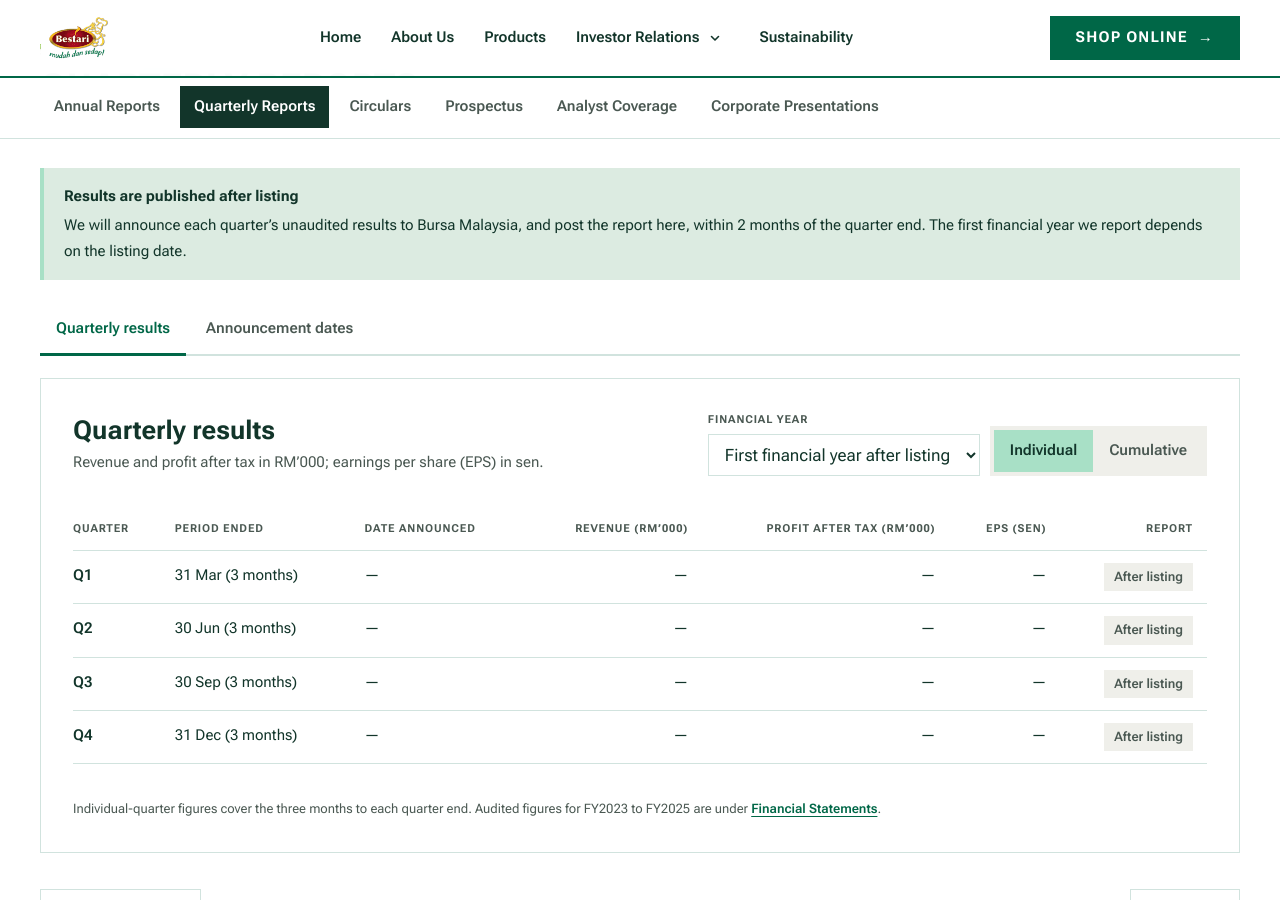
Test case: Quarterly Reports › switches to cumulative year-to-date periods
The image size is (1280, 900).
(page scrolled)
Check: the heading "Quarterly Reports" is shown, box left=40, top=66, right=418, bottom=108
Click the button "Cumulative": (1148, 451) left=1093, top=430, right=1203, bottom=472
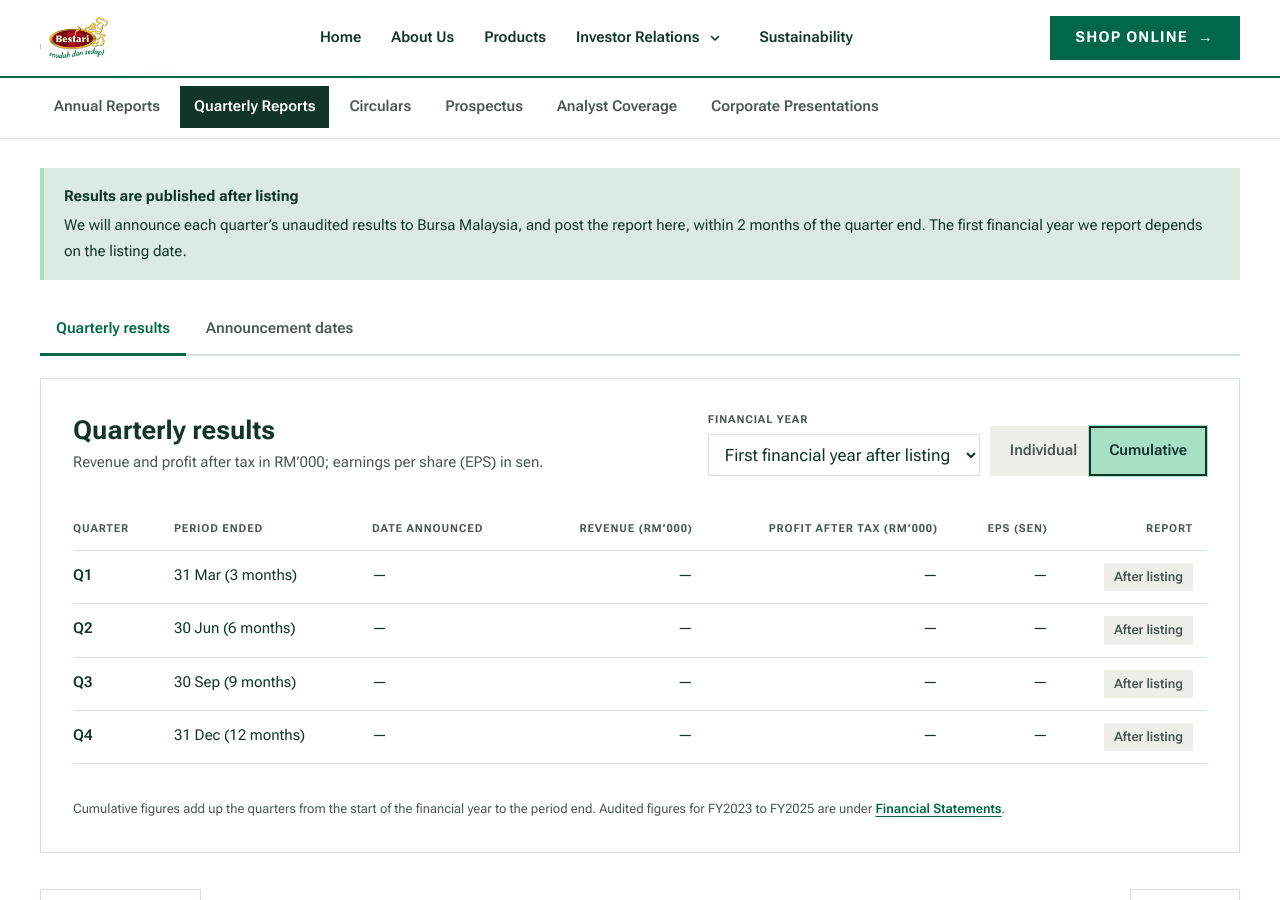
Check: the table named "cumulative, year to date" shows "30 Jun (6 months)", box left=174, top=619, right=296, bottom=637
Check: the table named "cumulative, year to date" shows "31 Dec (12 months)", box left=174, top=726, right=305, bottom=744
Check: the text "Cumulative figures add up the quarters" is shown, box left=73, top=801, right=596, bottom=816
Click the button "Individual": (1043, 451) left=994, top=430, right=1093, bottom=472
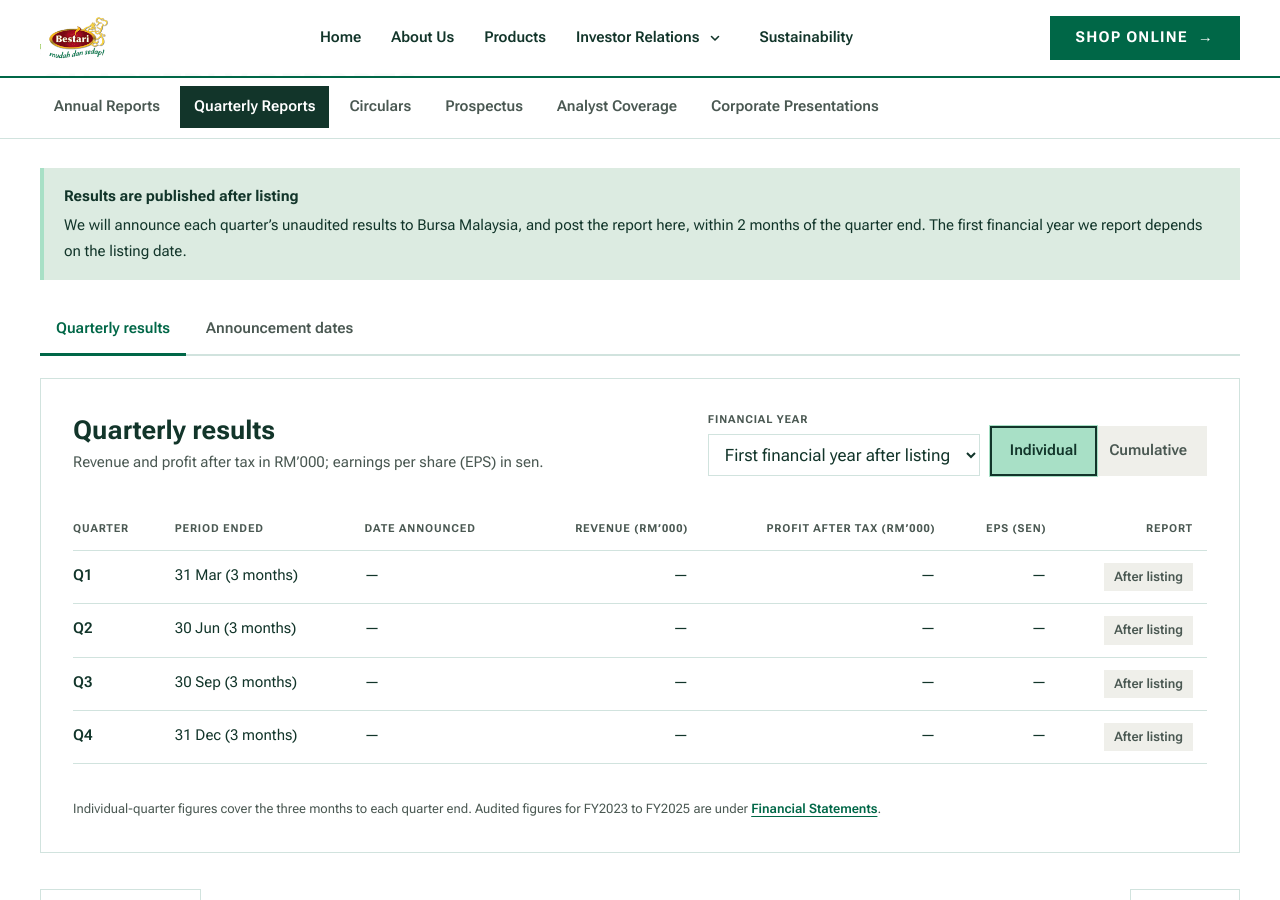
Check: the table named "individual quarters" shows "31 Dec (3 months)", box left=175, top=726, right=298, bottom=744
